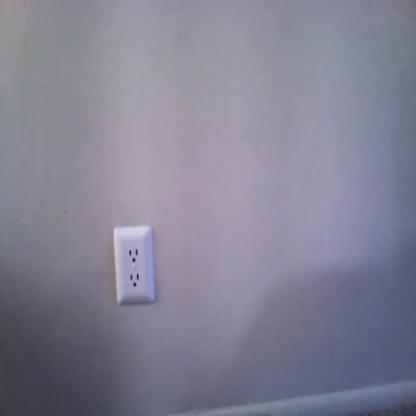OUTLET: (112, 226, 155, 304)
